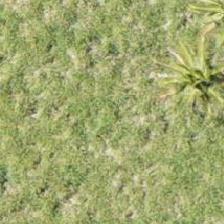coconut_tree: (150, 28, 223, 118)
